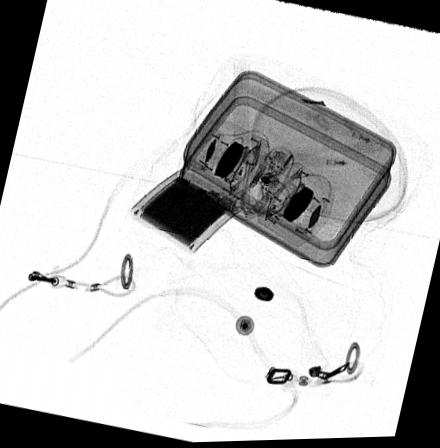Powerbank: (129, 159, 247, 255)
